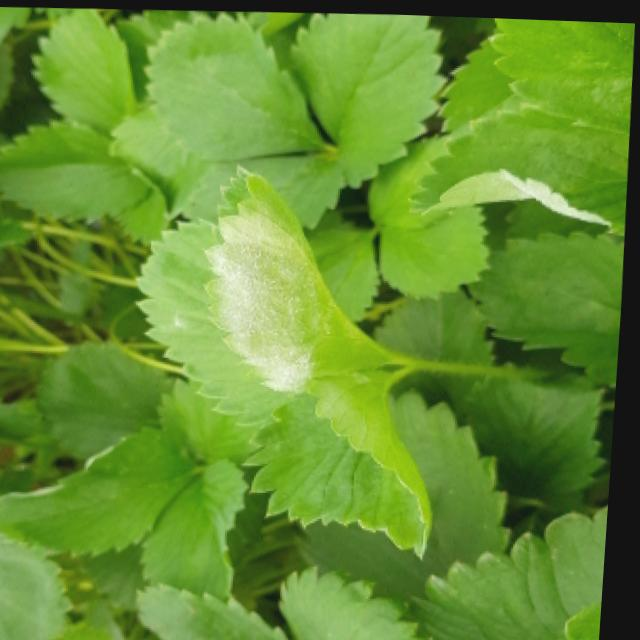Powdery Mildew Leaf: (205, 155, 418, 391), (135, 215, 304, 424), (408, 97, 631, 234)
